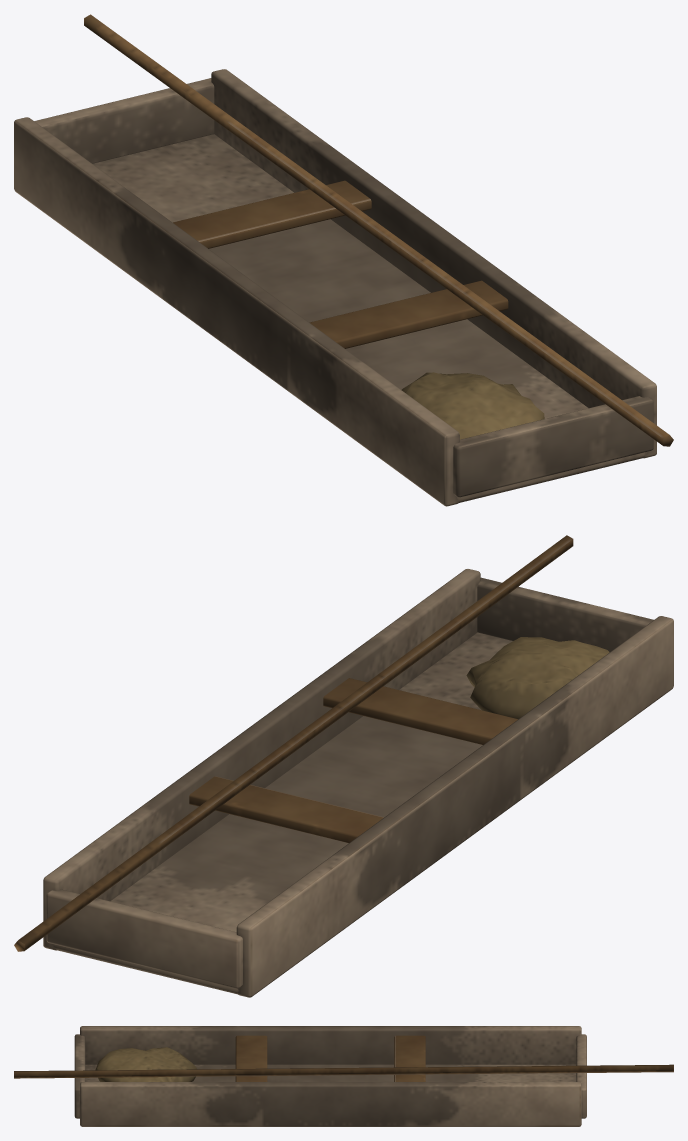
Rendered from punt.obj.
The picture shows the model from 3 angles, top to bottom: view 1: azimuth 30°, elevation 25°; view 2: azimuth 150°, elevation 25°; view 3: azimuth 270°, elevation 25°; orthographic projection. The views are drawn at different scales.
Parts seen in each view (by area): view 1: part0, part2, part1; view 2: part0, part2, part1; view 3: part0, part2, part1.
Boxes of the visible parts, x1=… form: part0: x1=14, y1=69, x2=656, y2=506; part2: x1=84, y1=14, x2=673, y2=446; part1: x1=401, y1=372, x2=544, y2=439; part0: x1=43, y1=569, x2=673, y2=997; part2: x1=14, y1=535, x2=573, y2=951; part1: x1=466, y1=637, x2=609, y2=719; part0: x1=74, y1=1026, x2=586, y2=1126; part2: x1=14, y1=1035, x2=673, y2=1081; part1: x1=95, y1=1047, x2=196, y2=1081.
Bounding box in the file's own units: 1.08 × 0.3901 × 5.
